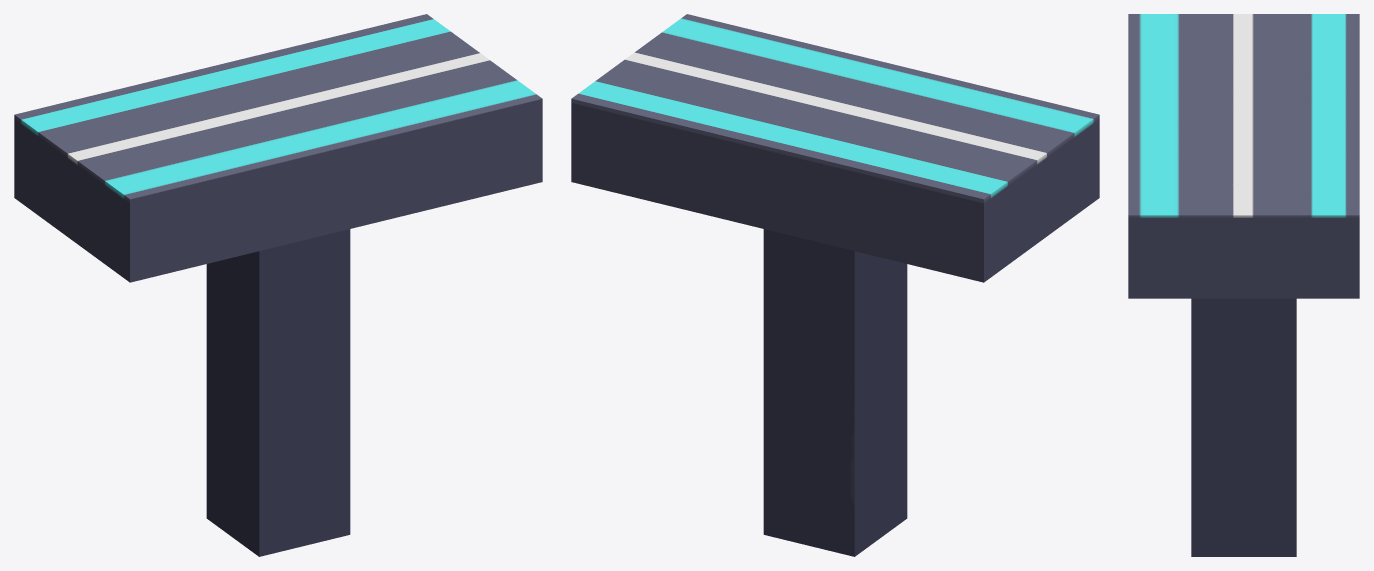
File: road.fbx
3 renders of one model, left to right at view 1: azimuth 30°, elevation 25°; view 2: azimuth 150°, elevation 25°; view 3: azimuth 270°, elevation 25°, orthographic.
Parts seen in each view (by area): view 1: pCube1; view 2: pCube1; view 3: pCube1.
Boxes of the visible parts, box(x1,y1,x2,y2) form: pCube1: box(14, 14, 542, 556); pCube1: box(571, 14, 1099, 556); pCube1: box(1128, 14, 1359, 556).
Size of the model in its own units: 22.72 by 22.1 by 11.04.
1 material, 1 textured.
